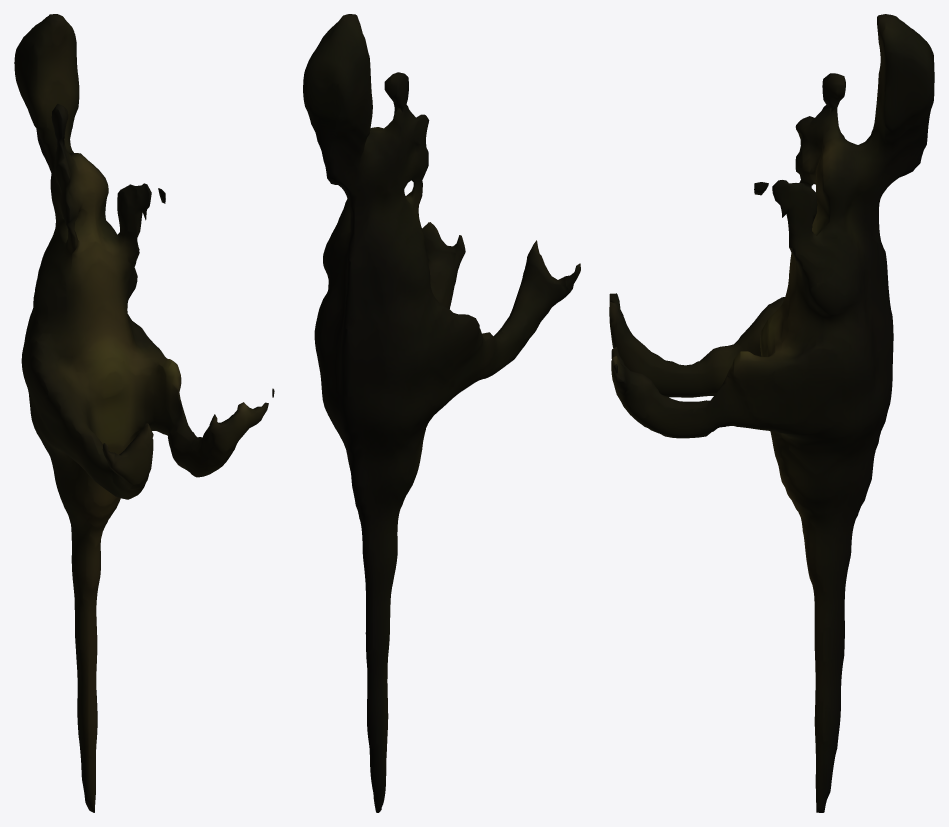
The picture shows the model from 3 angles, left to right: view 1: azimuth 30°, elevation 25°; view 2: azimuth 150°, elevation 25°; view 3: azimuth 270°, elevation 25°; orthographic projection. The views are drawn at different scales.
Visible parts, largest first — view 1: plyFile; view 2: plyFile; view 3: plyFile.
Part boxes in pixels (left/top/right/bottom): plyFile: left=14, top=14, right=274, bottom=812; plyFile: left=303, top=14, right=580, bottom=812; plyFile: left=609, top=14, right=934, bottom=812.
Bounding box in the file's own units: 45.85 × 197 × 73.17.
